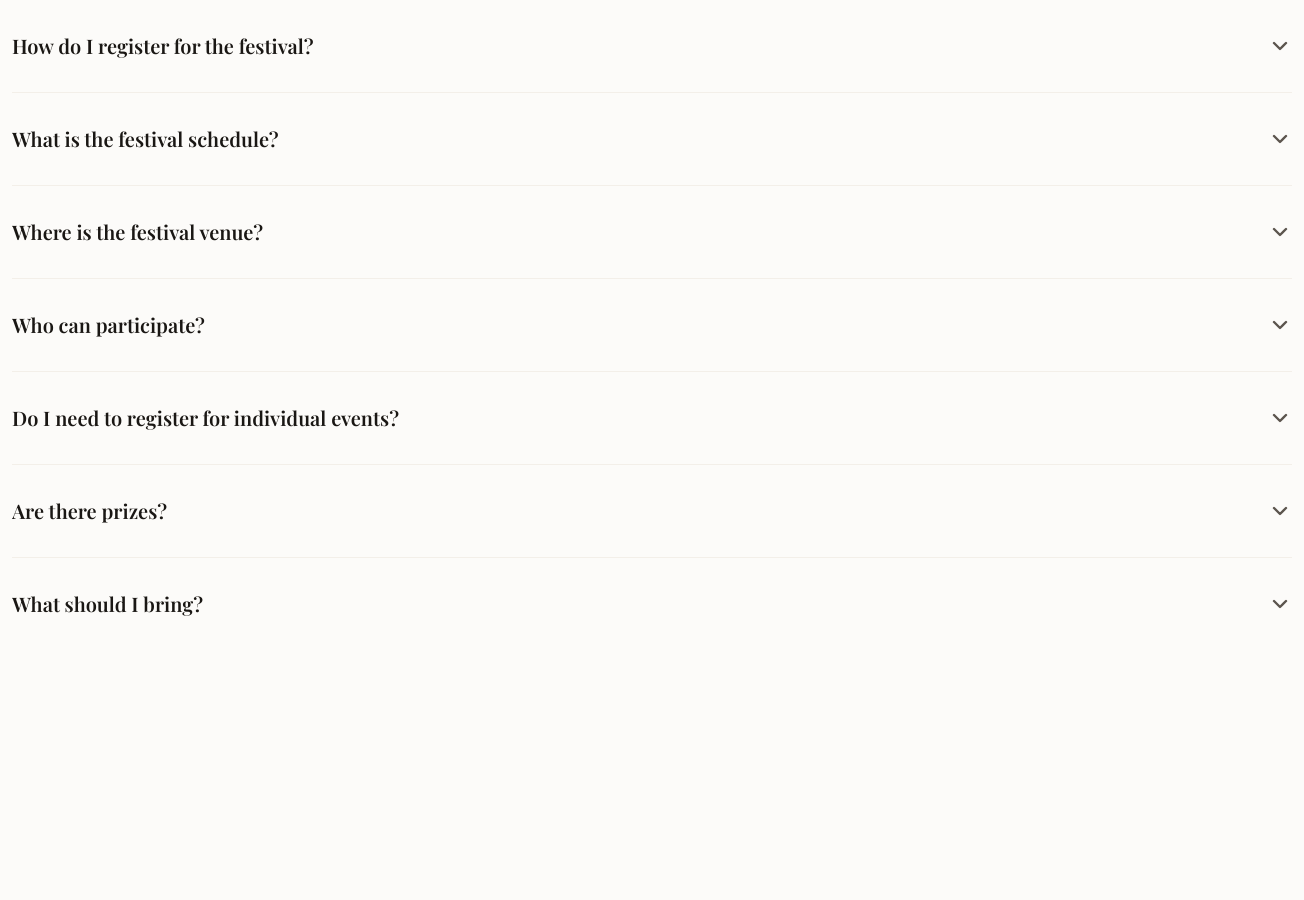
it: FaqAccordion › Click activation › clicking an expanded question collapses it (toggle semantics)
What coordinates should you click on to do the following:
click the button "How do I register for the festival?"
I would click on:
 (163, 46)
Its box is [12, 16, 1292, 76].
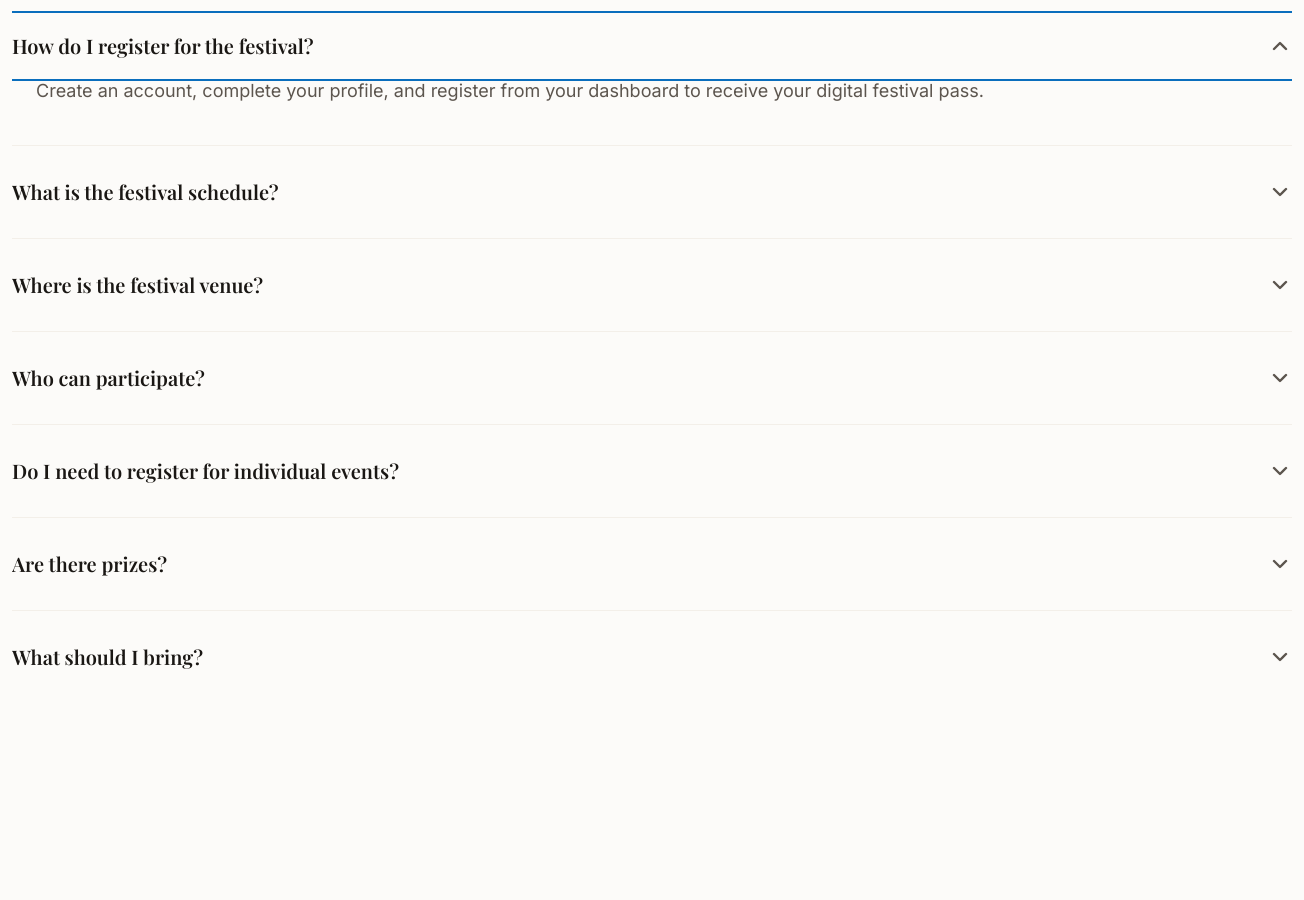
Check: the button "How do I register for the festival?" is expanded
What coordinates should you click on to do the following:
click the button "How do I register for the festival?"
I would click on:
 (163, 46)
Its box is [12, 16, 1292, 76].
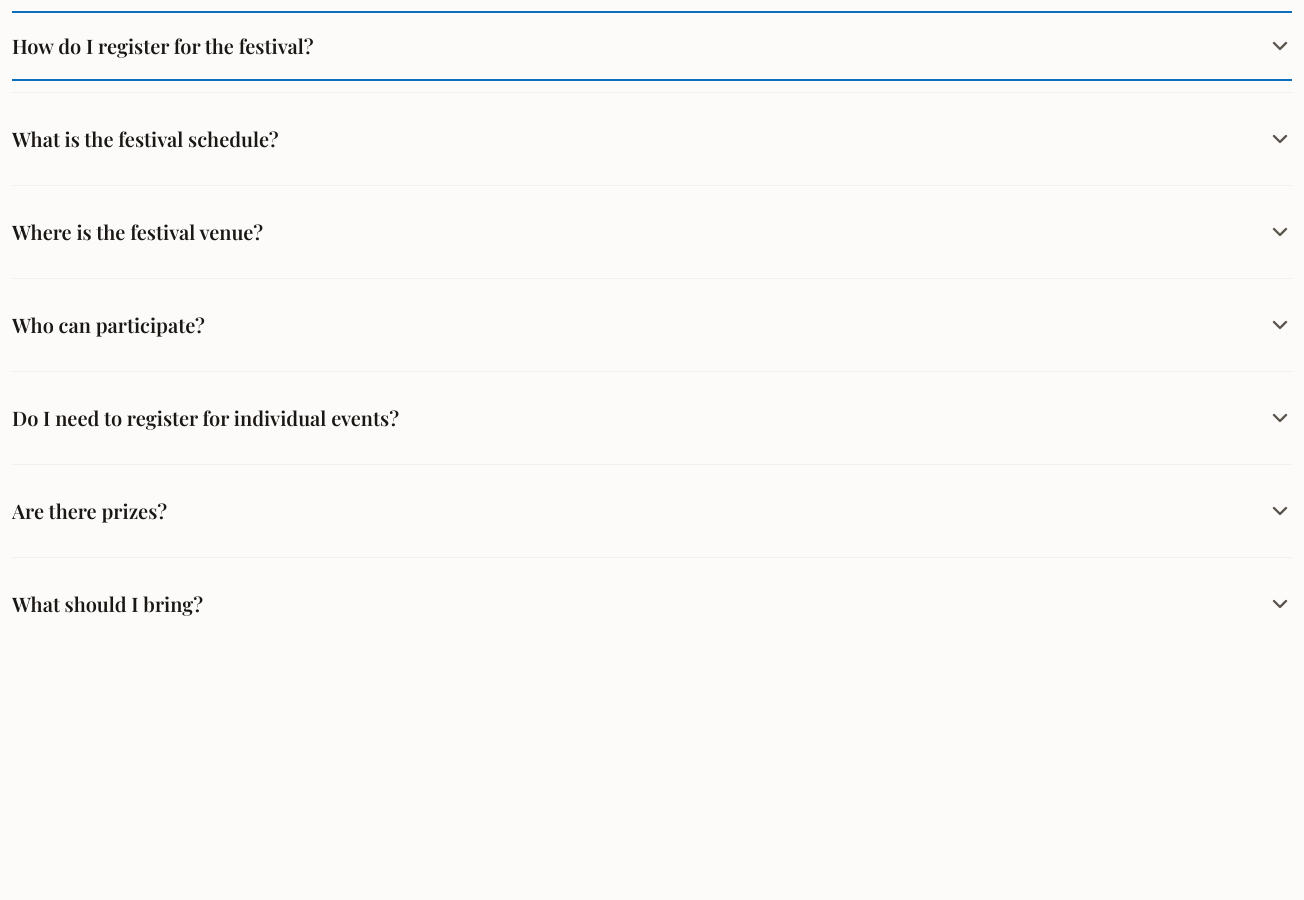
Check: the button "How do I register for the festival?" is collapsed, box [12, 16, 1292, 76]
